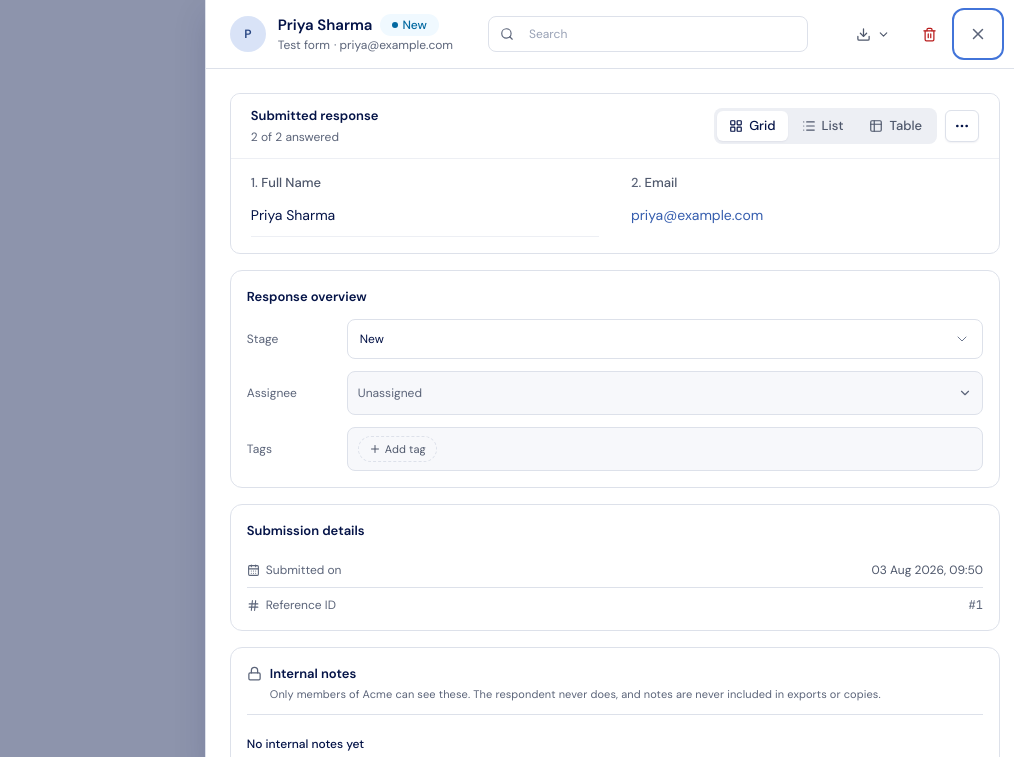
Test: ResponseDrawer › download format › asks which format before starting anything: CSV or PDF
Expected: the heading "Submitted response" is shown, x1=251 y1=106 x2=378 y2=126
Click the button named "Download response": (873, 34) x1=843 y1=18 x2=903 y2=50
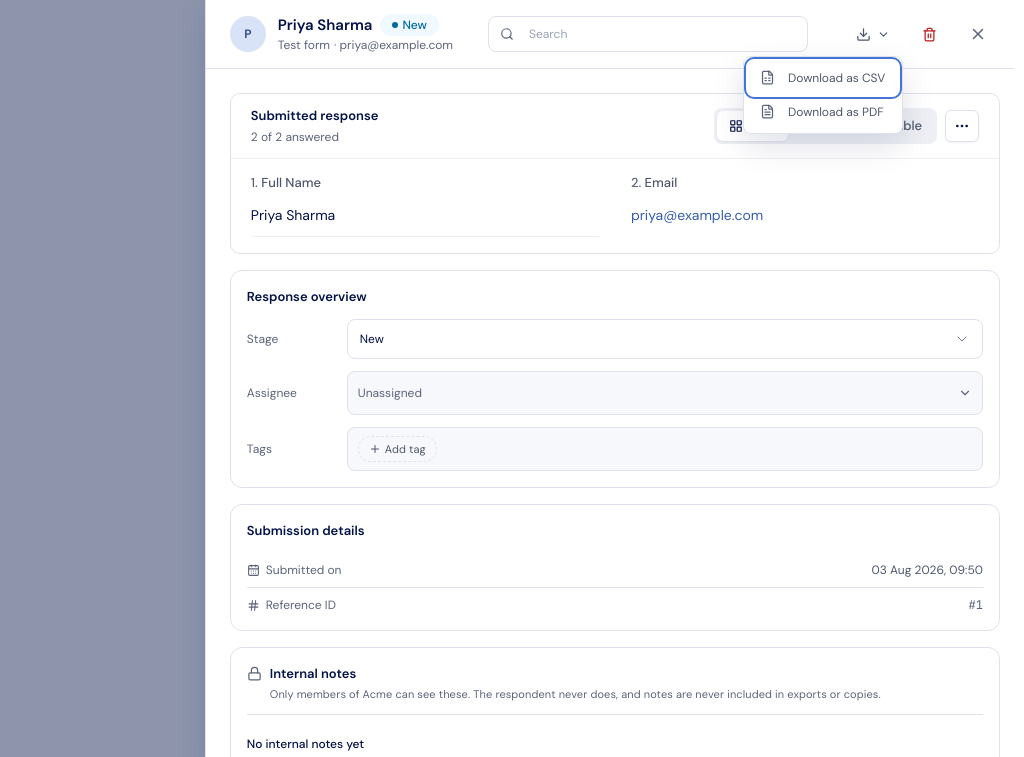
Expected: the menu items read "Download as CSV", "Download as PDF", in this order, x1=748 y1=61 x2=898 y2=95; x1=748 y1=95 x2=898 y2=129
